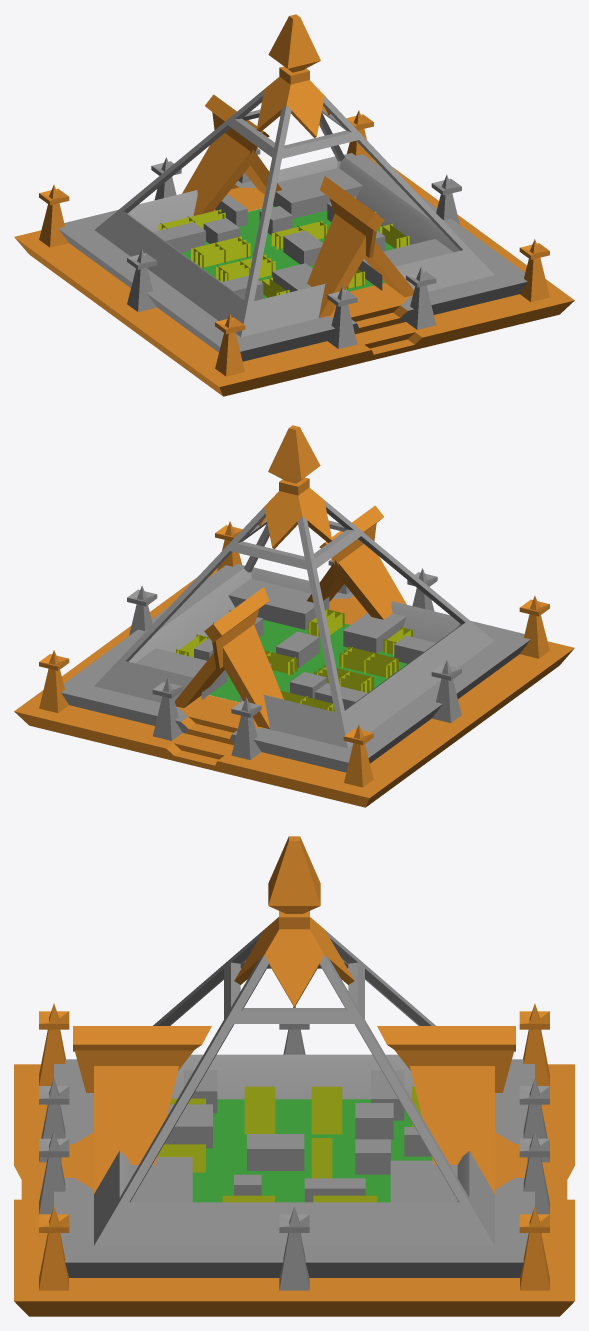
Rendered from green_house_high.FBX.
3 views of the same model, one above another, from view 1: azimuth 30°, elevation 25°; view 2: azimuth 150°, elevation 25°; view 3: azimuth 270°, elevation 25° (orthographic). The views are drawn at different scales.
Visible parts, largest first — view 1: green_house_high; view 2: green_house_high; view 3: green_house_high.
Boxes of the visible parts, <box> form: green_house_high: <box>14,14,574,396</box>; green_house_high: <box>14,425,574,807</box>; green_house_high: <box>14,836,574,1316</box>.
Size of the model in its own units: 14000 by 10078 by 14000.
